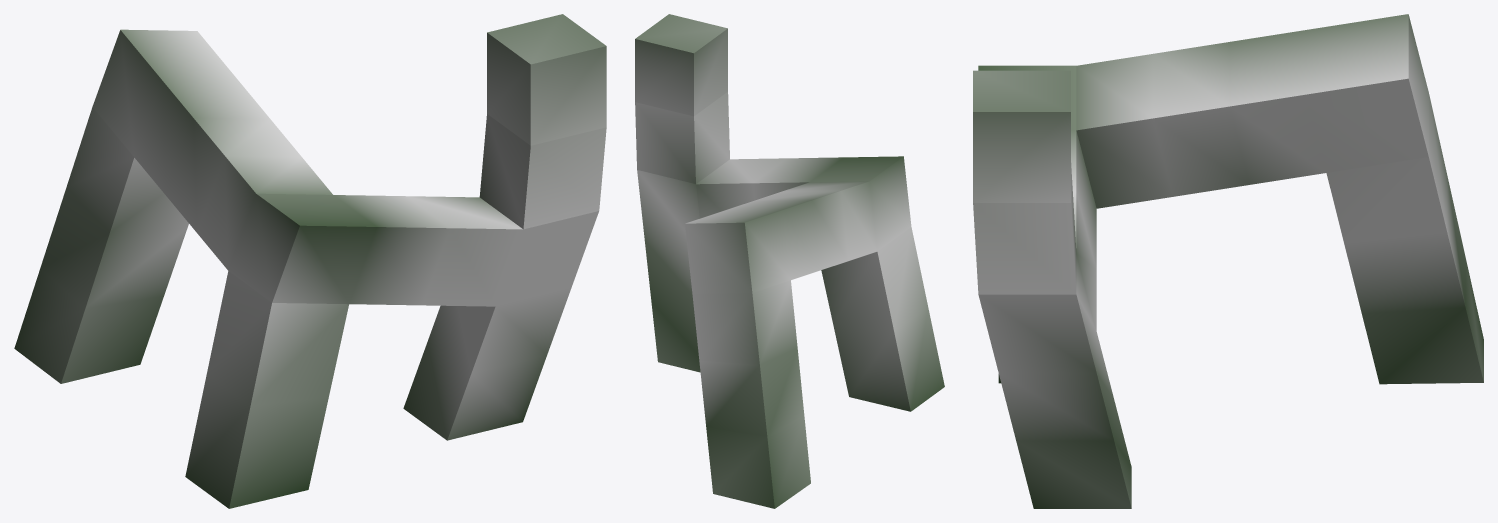
The model's file is ruin_01.fbx.
3 views of the same model, side by side, from view 1: azimuth 30°, elevation 25°; view 2: azimuth 150°, elevation 25°; view 3: azimuth 270°, elevation 25° (orthographic). The views are drawn at different scales.
Visible parts, largest first — view 1: ruin_01; view 2: ruin_01; view 3: ruin_01.
Part boxes in pixels (x1,y1,x2,y2): ruin_01: (14, 14, 606, 508); ruin_01: (635, 14, 944, 508); ruin_01: (973, 14, 1483, 508).
Size of the model in its own units: 966 by 963 by 1042.
